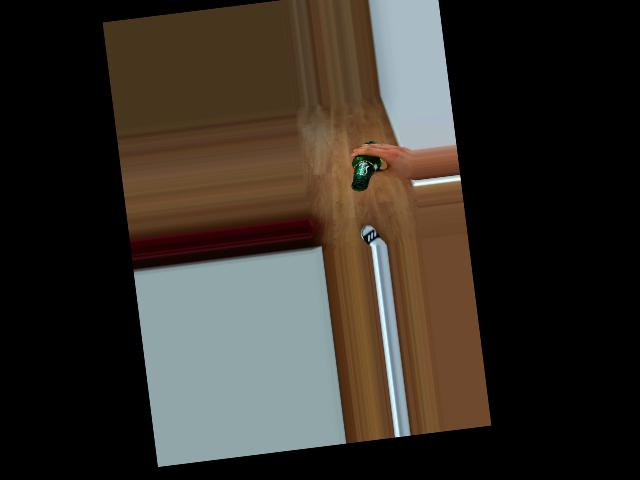beer: (346, 140, 385, 192)
